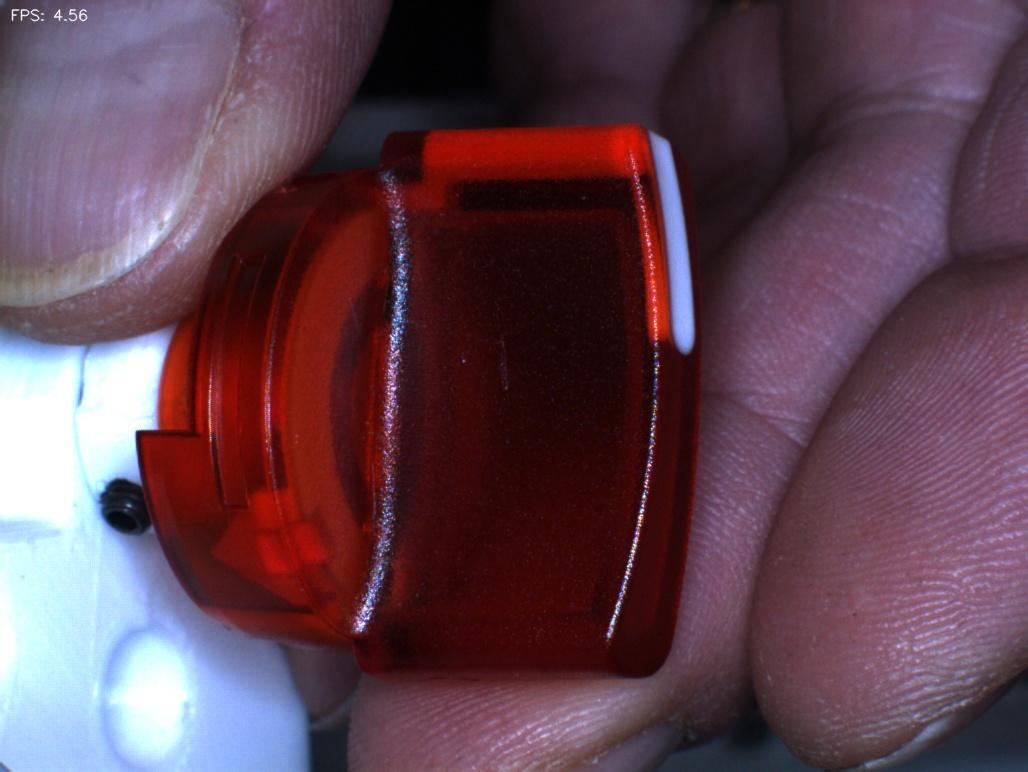Givrage: (462, 290, 544, 431)
